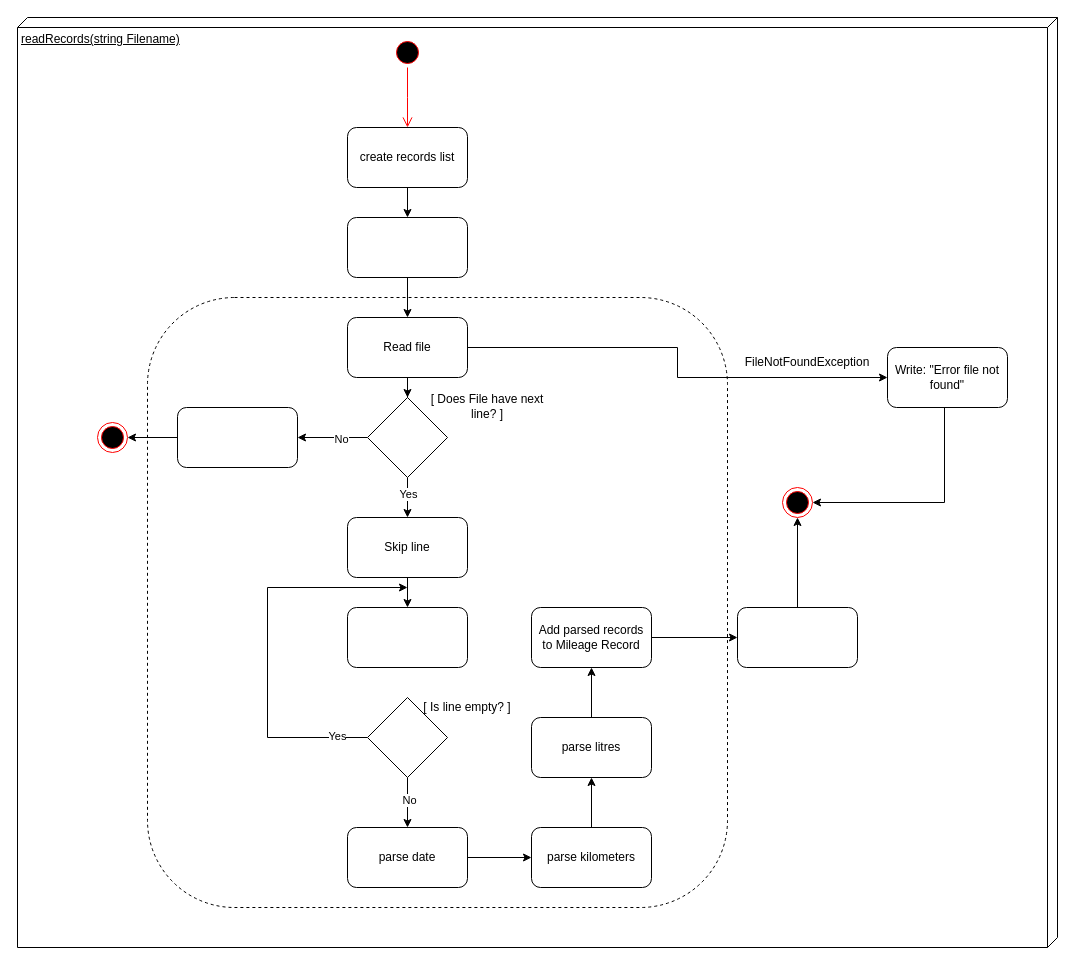
The diagram is 1075 pixels wide and 965 high, and some of its shapes have lost their labels. The shapes that lost their labels are listed below. From the top down, each one's centre as x and y in pixels, then its label:
At point (407, 247): "File f = filename".
At point (237, 437): "Return empty list records".
At point (407, 637): "data = read next line".
At point (797, 637): "Return records".
